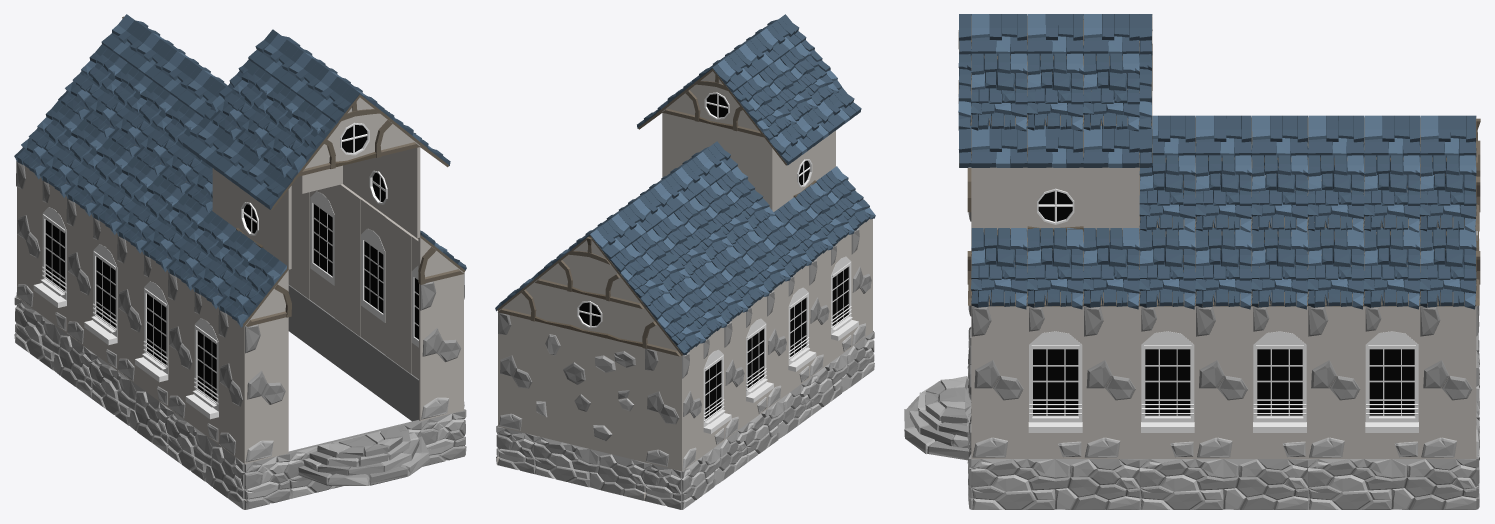
File: HOUSE_11_PARTS.fbx
3 views of the same model, side by side, from view 1: azimuth 30°, elevation 25°; view 2: azimuth 150°, elevation 25°; view 3: azimuth 270°, elevation 25° (orthographic). The views are drawn at different scales.
Visible parts, largest first — view 1: WALL_03_4, WALL_03_3, STAIRS_06_2, WALL_03_6, FOUNDATION_01_9, WINDOW_01_16, WALL_03_14, FOUNDATION_01_7, WALL_03_7, WINDOW_01_12, FOUNDATION_01_8, WINDOW_01_10 (+58 smaller); view 2: WALL_06_2, FOUNDATION_01_6, WALL_03_15, WALL_03_16, FOUNDATION_01_7, WINDOW_01_12, WINDOW_01_10, WINDOW_01_13, WINDOW_01_11, FOUNDATION_01_9, FOUNDATION_01_8, WALL_03_13 (+56 smaller); view 3: WINDOW_01_16, WINDOW_01_17, WALL_03_6, WALL_03_5, WINDOW_01_14, FOUNDATION_01_4, FOUNDATION_01_3, FOUNDATION_01_5, WALL_03_9, WALL_03_7, WINDOW_01_15, WALL_03_8 (+39 smaller).
Part boxes in pixels (left/top/right/bottom): WALL_03_4: left=419, top=274, right=463, bottom=420; WALL_03_3: left=244, top=317, right=288, bottom=463; STAIRS_06_2: left=298, top=426, right=429, bottom=485; WALL_03_6: left=385, top=217, right=412, bottom=373; FOUNDATION_01_9: left=166, top=408, right=247, bottom=509; WINDOW_01_16: left=360, top=198, right=387, bottom=354; WALL_03_14: left=218, top=309, right=247, bottom=463; FOUNDATION_01_7: left=14, top=297, right=93, bottom=397; WALL_03_7: left=335, top=184, right=362, bottom=336; WINDOW_01_12: left=84, top=217, right=118, bottom=370; FOUNDATION_01_8: left=90, top=353, right=169, bottom=453; WINDOW_01_10: left=185, top=291, right=219, bottom=444; WALL_06_2: left=535, top=321, right=644, bottom=462; FOUNDATION_01_6: left=533, top=435, right=645, bottom=500; WALL_03_15: left=645, top=348, right=682, bottom=470; WALL_03_16: left=498, top=311, right=534, bottom=435; FOUNDATION_01_7: left=679, top=425, right=747, bottom=509; WINDOW_01_12: left=745, top=296, right=773, bottom=424; WINDOW_01_10: left=830, top=234, right=858, bottom=362; WINDOW_01_13: left=703, top=327, right=731, bottom=455; WINDOW_01_11: left=788, top=265, right=816, bottom=393; FOUNDATION_01_9: left=809, top=332, right=874, bottom=415; FOUNDATION_01_8: left=745, top=378, right=811, bottom=462; WALL_03_13: left=809, top=250, right=830, bottom=377; WINDOW_01_16: left=1139, top=306, right=1195, bottom=458; WINDOW_01_17: left=1027, top=306, right=1083, bottom=458; WALL_03_6: left=1083, top=306, right=1139, bottom=458; WALL_03_5: left=971, top=306, right=1027, bottom=458; WINDOW_01_14: left=1364, top=306, right=1420, bottom=458; FOUNDATION_01_4: left=1139, top=459, right=1307, bottom=509; FOUNDATION_01_3: left=971, top=459, right=1139, bottom=509; FOUNDATION_01_5: left=1308, top=459, right=1476, bottom=509; WALL_03_9: left=1420, top=306, right=1476, bottom=458; WALL_03_7: left=1196, top=306, right=1251, bottom=458; WINDOW_01_15: left=1252, top=306, right=1307, bottom=458; WALL_03_8: left=1308, top=306, right=1363, bottom=458.
Size of the model in its own units: 541 by 859 by 1027.
